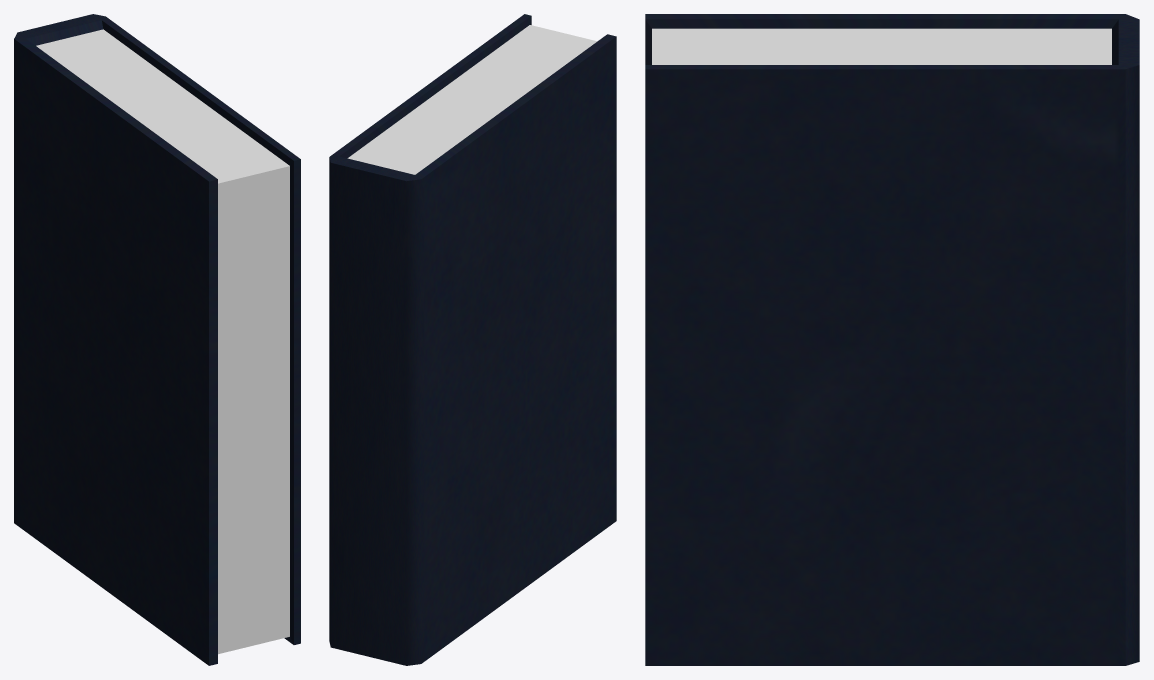
The model's file is LibroAzulOscuroGordo.fbx.
The picture shows the model from 3 angles, left to right: view 1: azimuth 30°, elevation 25°; view 2: azimuth 150°, elevation 25°; view 3: azimuth 270°, elevation 25°; orthographic projection. The views are drawn at different scales.
Parts seen in each view (by area): view 1: pCube7; view 2: pCube7; view 3: pCube7.
Boxes of the visible parts, bbox=[...] form: pCube7: bbox=[14, 14, 300, 665]; pCube7: bbox=[329, 14, 616, 665]; pCube7: bbox=[645, 14, 1139, 665].
Size of the model in its own units: 0.1827 by 0.9214 by 0.692.
Materials: 2 (1 with a texture image).
